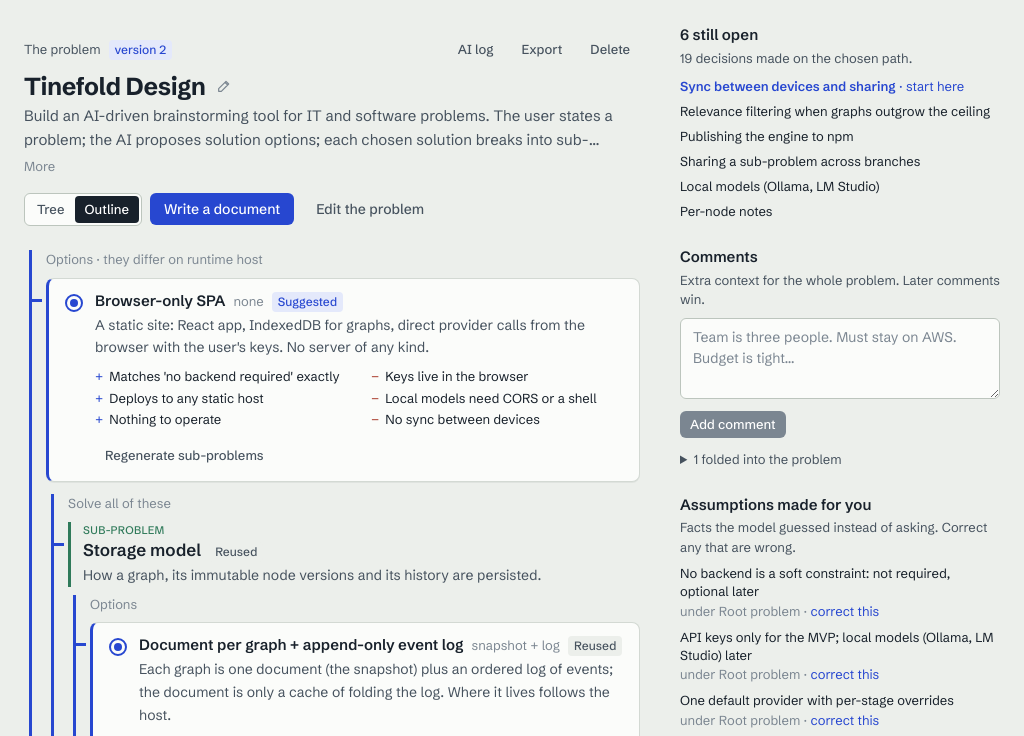
graph page, outline view › adds a comment and marks nodes as possibly out of date
Step 1. Type "Must work offline" into the text box named "Add a comment" → point(840, 358), box [680, 318, 1000, 398]
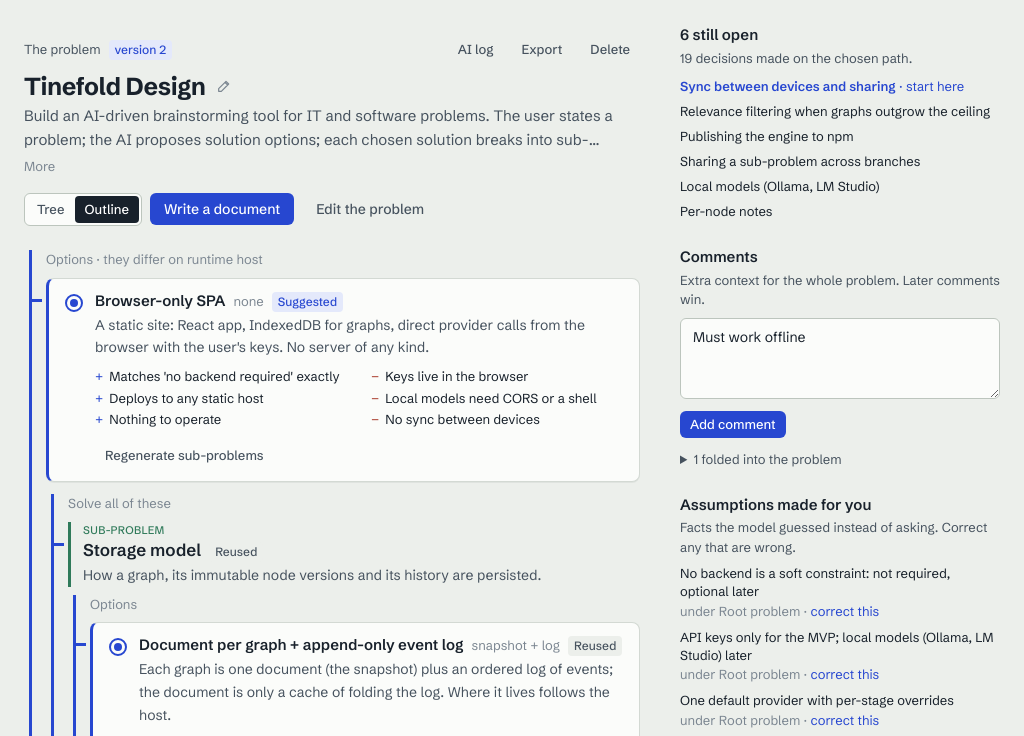
Step 2. Click the button "Add comment" → point(733, 424), box [680, 410, 786, 438]
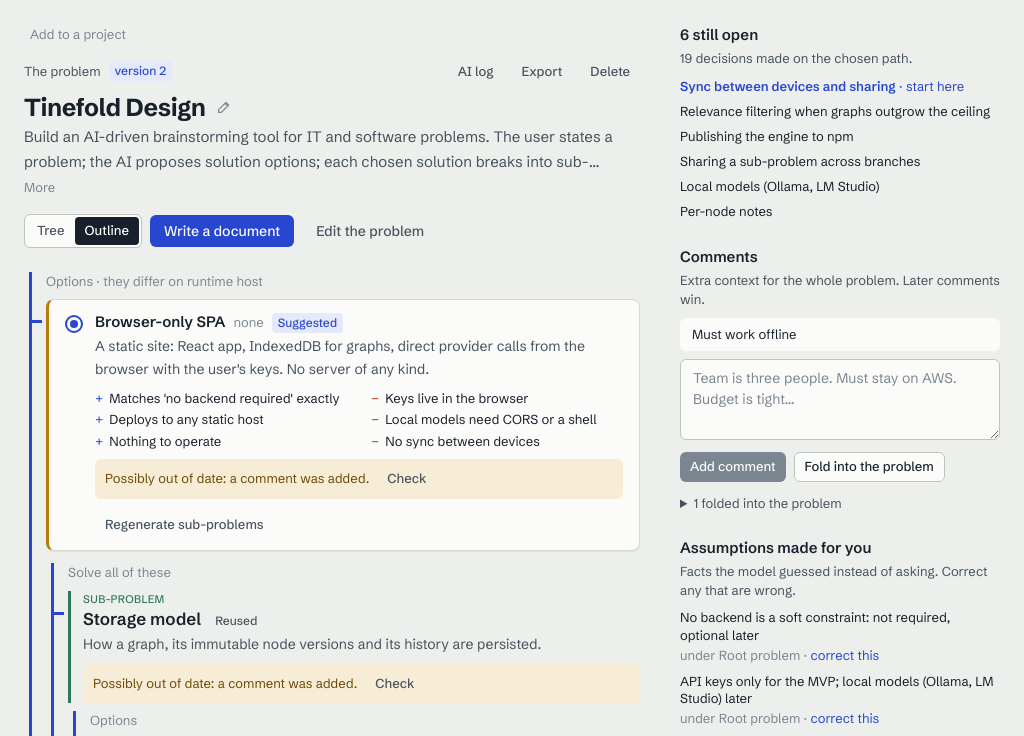
Expected: the list item "Must work offline" is shown, [680, 318, 1000, 351]
Expected: the text "Possibly out of date: a comment was added." below "Nothing to operate" is shown, [230, 470, 366, 486]
